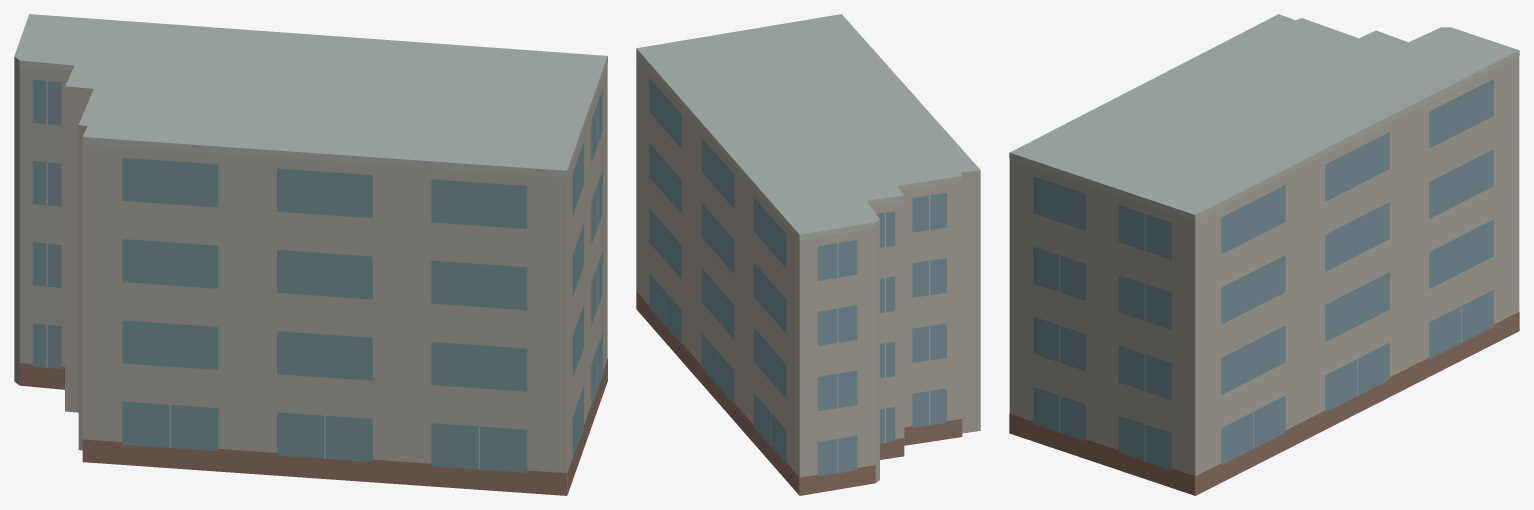
The model's file is survey-upis-33013479.glb.
3 renders of one model, left to right at view 1: azimuth 30°, elevation 25°; view 2: azimuth 150°, elevation 25°; view 3: azimuth 270°, elevation 25°, orthographic. The views are drawn at different scales.
Visible parts, largest first — view 1: survey-upis-33013479.tmp; view 2: survey-upis-33013479.tmp; view 3: survey-upis-33013479.tmp.
Boxes of the visible parts, x1,y1,x2,y2 form: survey-upis-33013479.tmp: (14,14,607,495); survey-upis-33013479.tmp: (636,14,980,495); survey-upis-33013479.tmp: (1009,14,1519,495).
Size of the model in its own units: 18.13 by 11.8 by 19.43.
